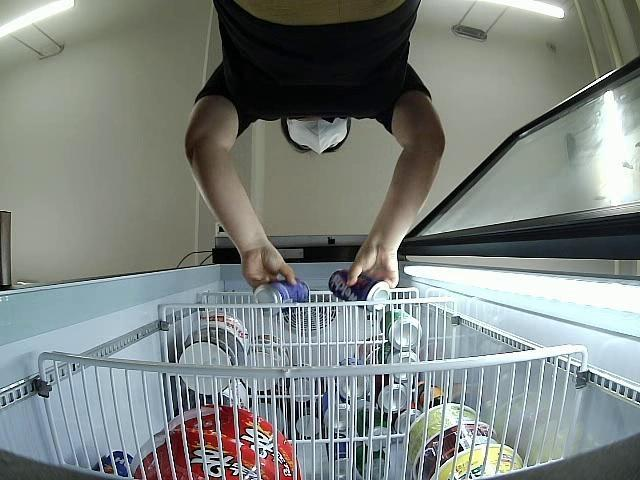14_welchsGrape: (328, 269, 391, 310), (253, 280, 310, 316)
